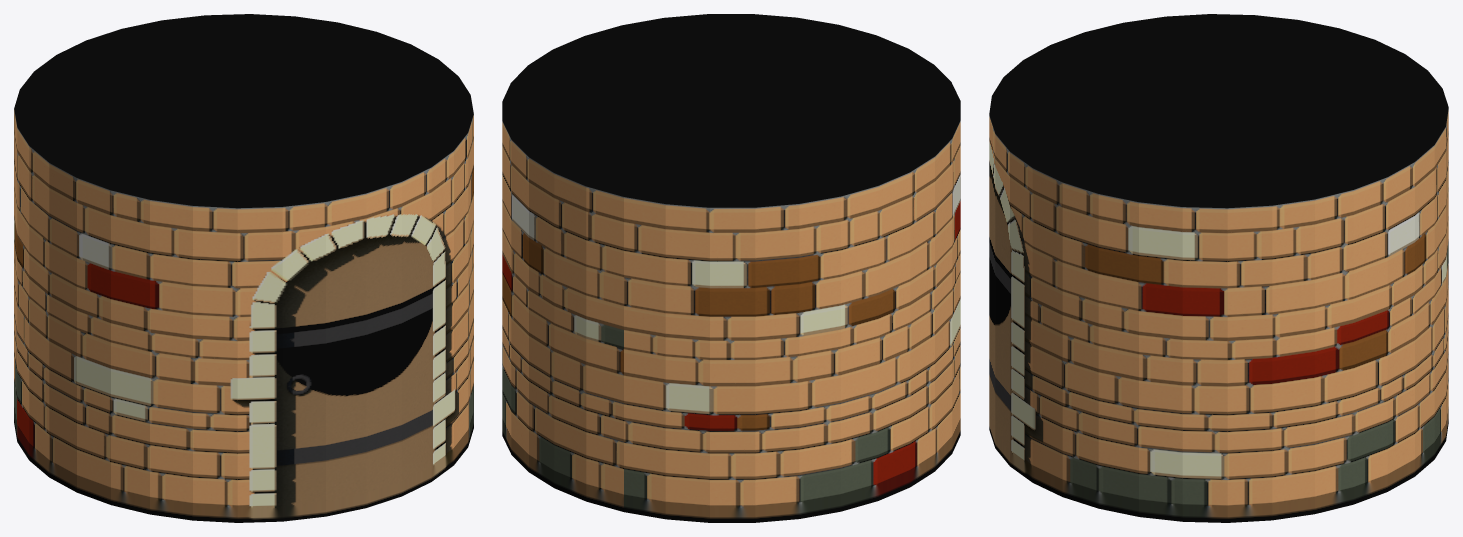
File: tower-sections-low-detail.glb
3 renders of one model, left to right at view 1: azimuth 30°, elevation 25°; view 2: azimuth 150°, elevation 25°; view 3: azimuth 270°, elevation 25°, orthographic.
Parts seen in each view (by area): view 1: Cylinder; view 2: Cylinder; view 3: Cylinder.
Boxes of the visible parts, x1,y1,x2,y2 form: Cylinder: (14, 14, 473, 522); Cylinder: (502, 14, 960, 522); Cylinder: (989, 14, 1448, 522).
Size of the model in its own units: 2.9 by 2.19 by 2.9.
Materials: 1 (1 with a texture image).
